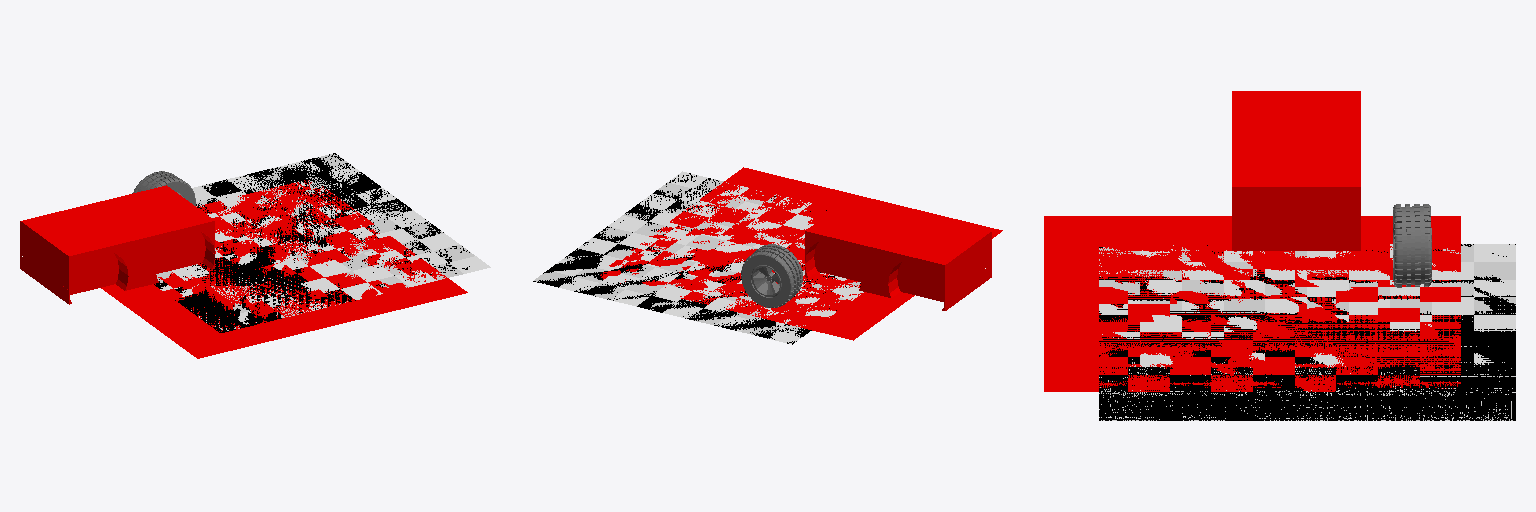
The robot description file, URDF, robot "abb_irb4600_60_205":
<?xml version="1.0" ?>
<robot xmlns:xacro="http://ros.org/wiki/xacro" name="abb_irb4600_60_205">
  <link name="base_link">
    <collision name="collision">
      <geometry>
        <mesh filename="package://abb_irb4600_support/meshes/base/collision/base.dae"/>
      </geometry>
    </collision>
    <visual name="visual">
      <geometry>
        <mesh filename="package://abb_irb4600_support/meshes/base/visual/base.dae"/>
      </geometry>
      <material name="red">
        <color rgba="1 0 0 1"/>
      </material>
    </visual>
  </link>
  <link name="wheel_l1">
    <collision name="collision">
      <geometry>
        <mesh filename="package://abb_irb4600_support/meshes/base/collision/wheel_l1.dae"/>
      </geometry>
    </collision>
    <visual name="visual">
      <geometry>
        <mesh filename="package://abb_irb4600_support/meshes/base/visual/wheel_l1.dae"/>
      </geometry>
      <!-- <material name="yellow"/> -->
    </visual>
  </link>

  <joint type="revolute" name="joint_1">
    <origin xyz="0.8 0.65 0" rpy="0 0 0"/>
    <axis xyz="0 1 0"/>
    <parent link="base_link"/>
    <child link="wheel_l1"/>
    <!-- <limit effort="0" lower="-3.141" upper="3.141" velocity="3.054"/> -->
  </joint>
 
</robot>

--- What the picture shows (computed from the rendered views, not written in the file) ---
The picture shows the robot from 3 angles, left to right: view 1: azimuth 30°, elevation 25°; view 2: azimuth 150°, elevation 25°; view 3: azimuth 270°, elevation 25°; orthographic projection.
Model abb_irb4600_60_205 with 2 links and 1 joints (1 revolute), rooted at base_link, posed every joint at zero.
Links seen in each view (by area): view 1: base_link, wheel_l1; view 2: base_link, wheel_l1; view 3: base_link, wheel_l1.
Link boxes in pixels (<box>): base_link: <box>20,180,467,358</box>; wheel_l1: <box>132,153,490,332</box>; base_link: <box>600,167,1002,340</box>; wheel_l1: <box>533,171,863,344</box>; base_link: <box>1044,91,1460,391</box>; wheel_l1: <box>1099,204,1515,420</box>.
Size in the robot's own frame: 6.88 by 5.65 by 1.15 metres.
2 mesh visuals loaded from 2 distinct referenced files (2 Collada DAE).